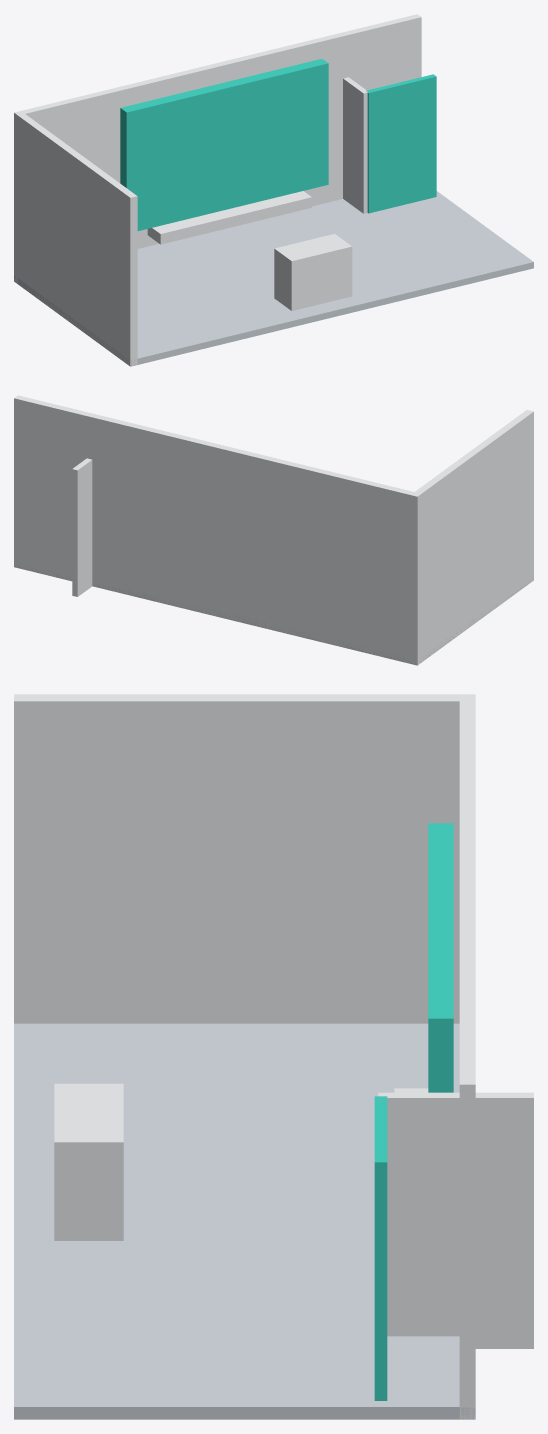
3 views of the same model, one above another, from view 1: azimuth 30°, elevation 25°; view 2: azimuth 150°, elevation 25°; view 3: azimuth 270°, elevation 25° (orthographic). The views are drawn at different scales.
Visible parts, largest first — view 1: Exhibition Booth Concept; view 2: Exhibition Booth Concept; view 3: Exhibition Booth Concept.
Boxes of the visible parts, x1=… form: Exhibition Booth Concept: x1=14, y1=14, x2=533, y2=366; Exhibition Booth Concept: x1=14, y1=395, x2=533, y2=665; Exhibition Booth Concept: x1=14, y1=694, x2=533, y2=1419.
Size of the model in its own units: 8 by 3.2 by 4.51.
